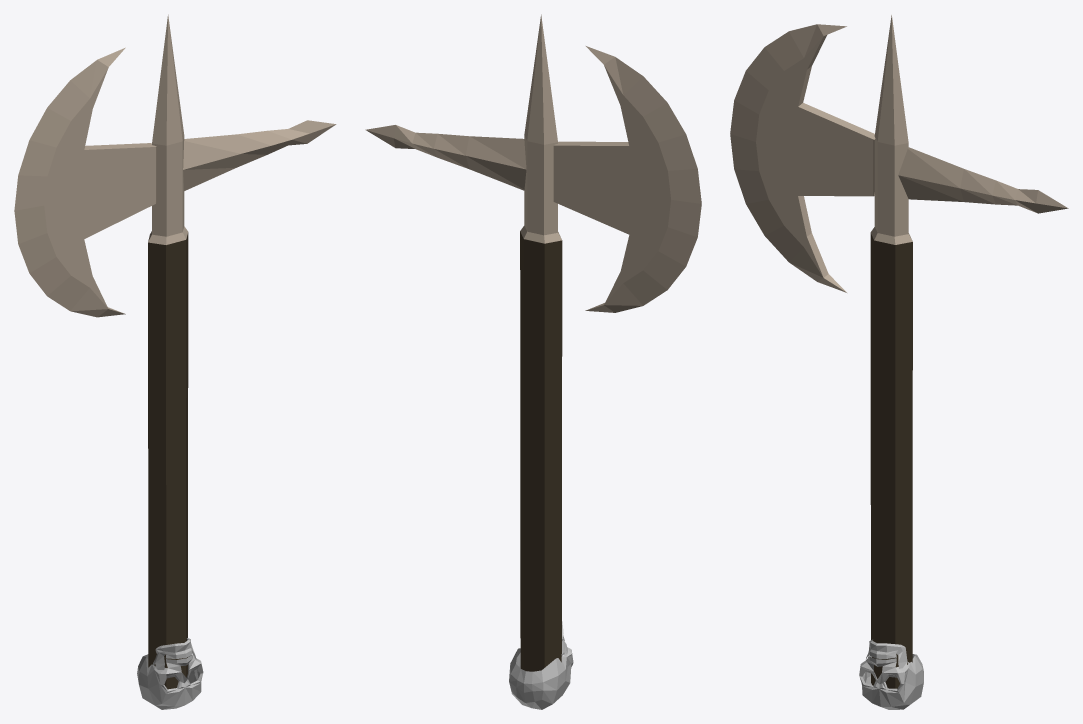
Rendered from undead-axe.obj.
3 renders of one model, left to right at view 1: azimuth 30°, elevation 25°; view 2: azimuth 150°, elevation 25°; view 3: azimuth 330°, elevation 25°, orthographic.
Parts seen in each view (by area): view 1: Mesh_Mesh.001_Mesh_Skull.0; view 2: Mesh_Mesh.001_Mesh_Skull.0; view 3: Mesh_Mesh.001_Mesh_Skull.0.
Part boxes in pixels (x1,y1,x2,y2): Mesh_Mesh.001_Mesh_Skull.0: (14, 14, 336, 709); Mesh_Mesh.001_Mesh_Skull.0: (365, 14, 701, 709); Mesh_Mesh.001_Mesh_Skull.0: (730, 15, 1068, 709).
Size of the model in its own units: 1.02 by 2.05 by 0.1862.
Materials: 3 (3 with a texture image).
